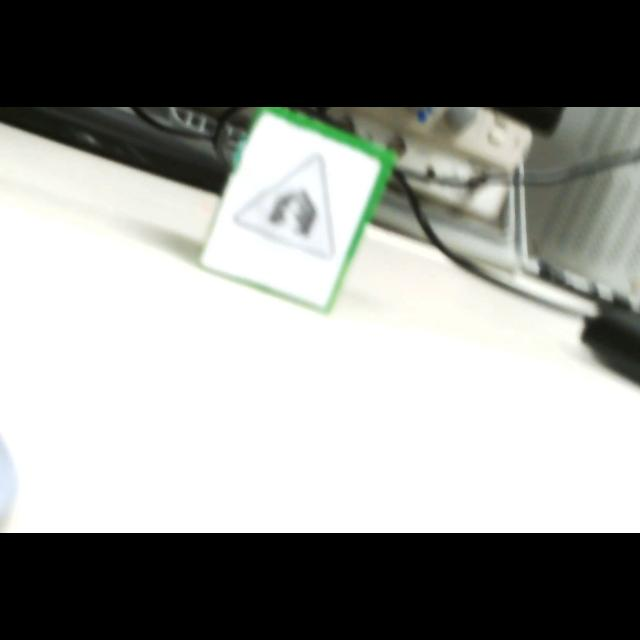Earthquake: (235, 154, 336, 259)
